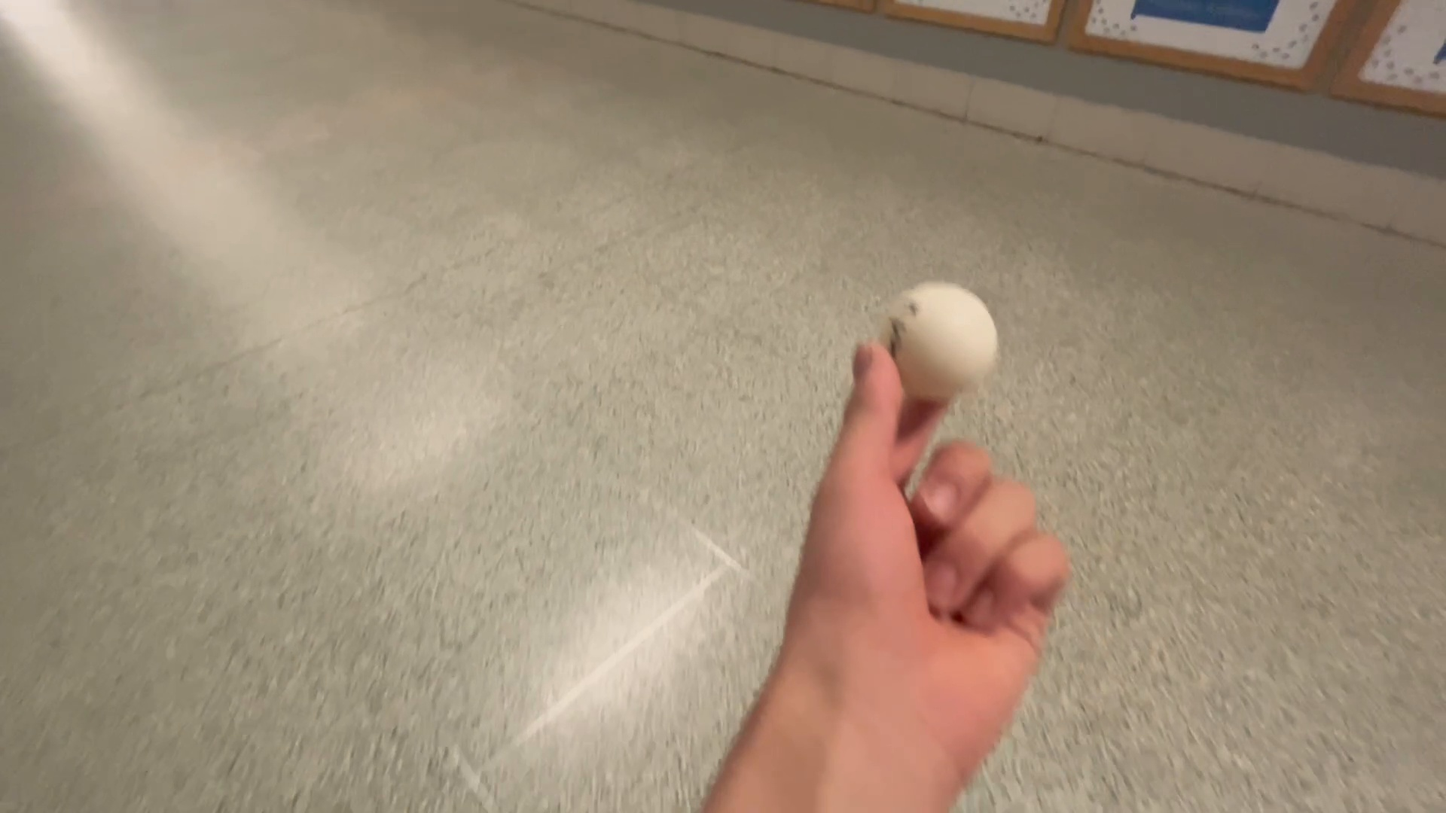Ball: (870, 276, 1000, 403)
